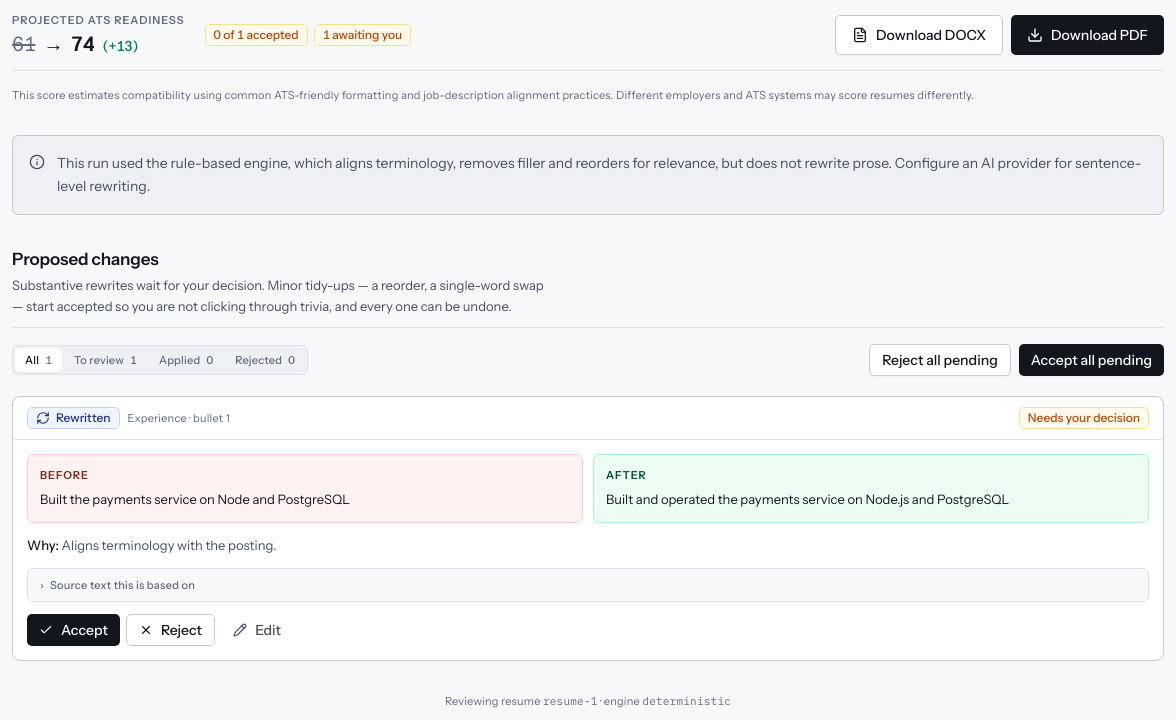
Test: deciding on a change › shows the decision back to the user
Click the button "Accept": (73, 630) [27, 614, 120, 646]
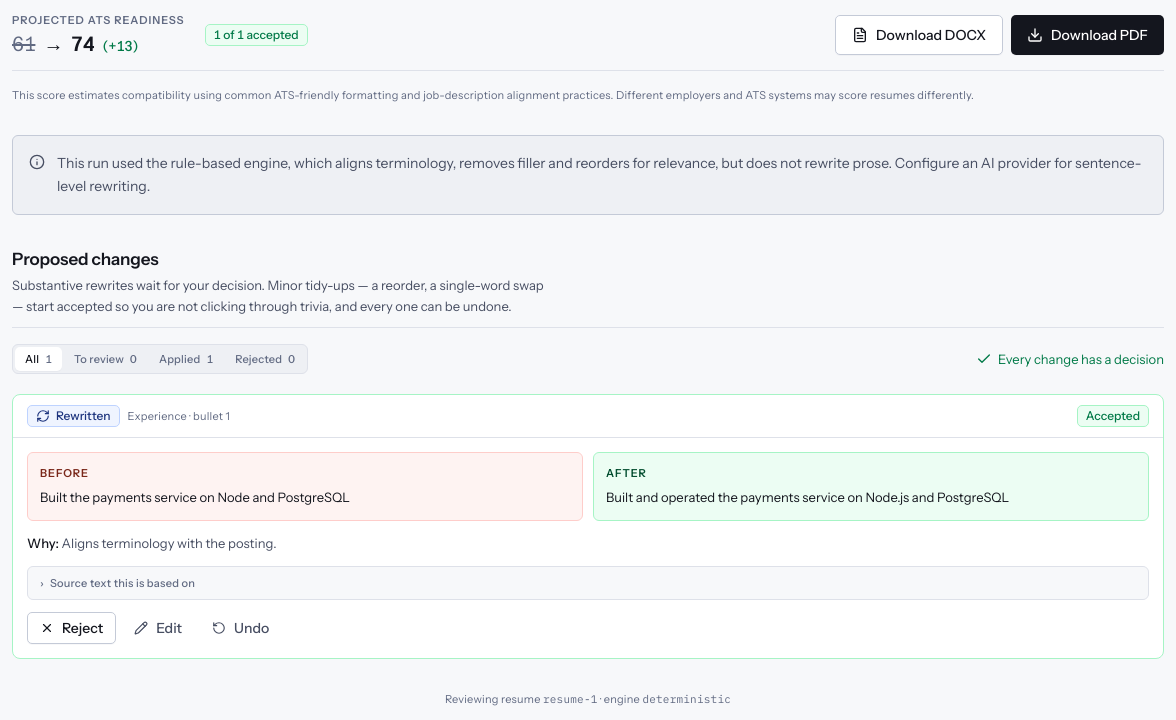
Now the text "Accepted" is shown, box [1077, 405, 1149, 427]
